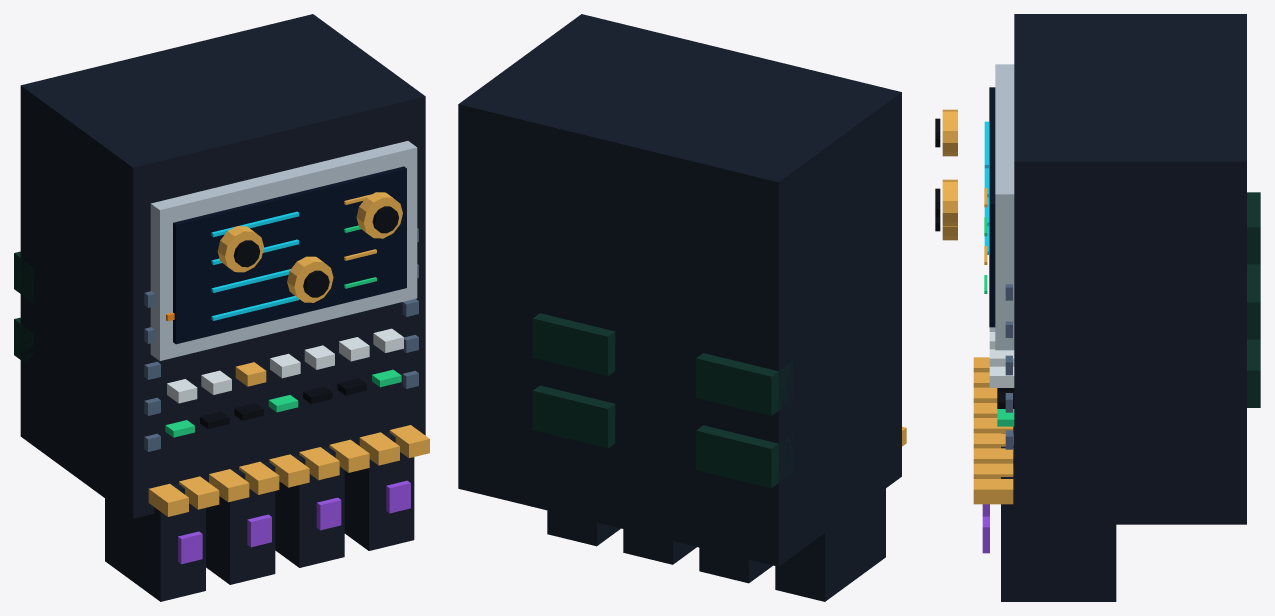
The model's file is 52_L91_EventProcessorA.fbx.
3 views of the same model, side by side, from view 1: azimuth 30°, elevation 25°; view 2: azimuth 150°, elevation 25°; view 3: azimuth 270°, elevation 25° (orthographic). The views are drawn at different scales.
Parts seen in each view (by area): view 1: L91_EventProcessorA, L91_EventProcessorA_Part_0012, L91_EventProcessorA_Part_0015, L91_EventProcessorA_Part_0013, L91_EventProcessorA_Part_0017, L91_EventProcessorA_Part_0016, L91_EventProcessorA_Part_0018, L91_EventProcessorA_Part_0014; view 2: L91_EventProcessorA; view 3: L91_EventProcessorA, L91_EventProcessorA_Part_0013, L91_EventProcessorA_Part_0017.
Boxes of the visible parts, <box> form: L91_EventProcessorA: <box>14,14,429,601</box>; L91_EventProcessorA_Part_0012: <box>178,480,410,564</box>; L91_EventProcessorA_Part_0015: <box>287,256,333,302</box>; L91_EventProcessorA_Part_0013: <box>217,226,263,272</box>; L91_EventProcessorA_Part_0017: <box>356,192,402,238</box>; L91_EventProcessorA_Part_0016: <box>303,270,329,297</box>; L91_EventProcessorA_Part_0018: <box>372,206,398,233</box>; L91_EventProcessorA_Part_0014: <box>233,240,260,267</box>; L91_EventProcessorA: <box>458,14,906,601</box>; L91_EventProcessorA: <box>973,14,1260,601</box>; L91_EventProcessorA_Part_0013: <box>942,109,957,156</box>; L91_EventProcessorA_Part_0017: <box>942,179,957,226</box>.
Bounding box in the file's own units: 96.9 × 138 × 90.3.
